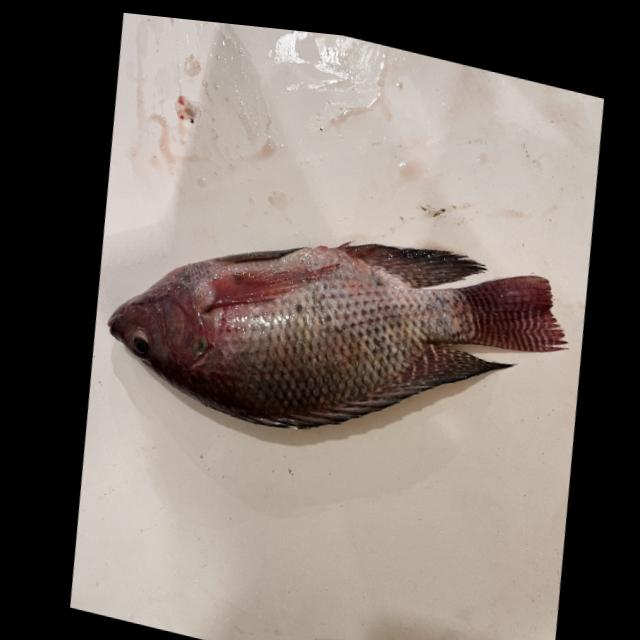Tilapia: (89, 165, 582, 501)
